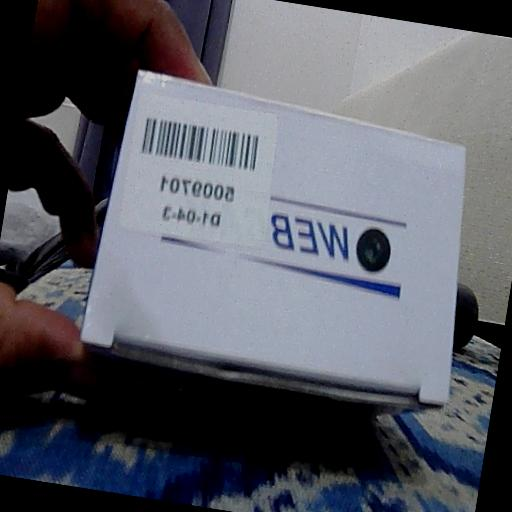webcam_box: (74, 64, 491, 422)
